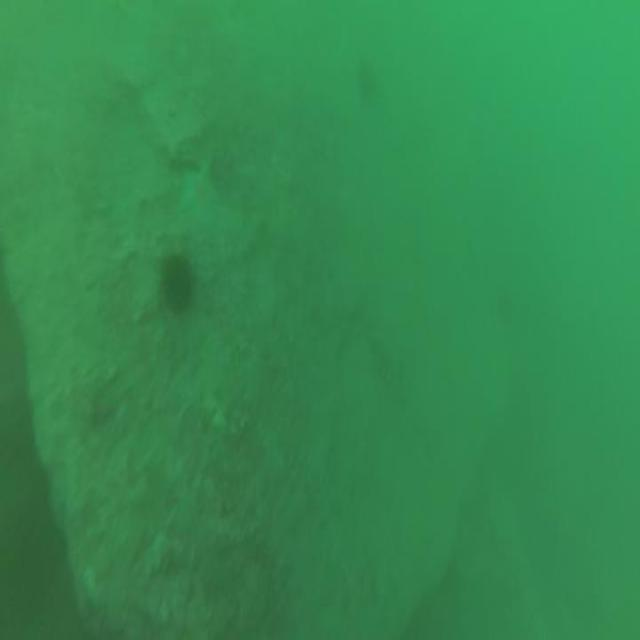echinus: (159, 256, 193, 314)
